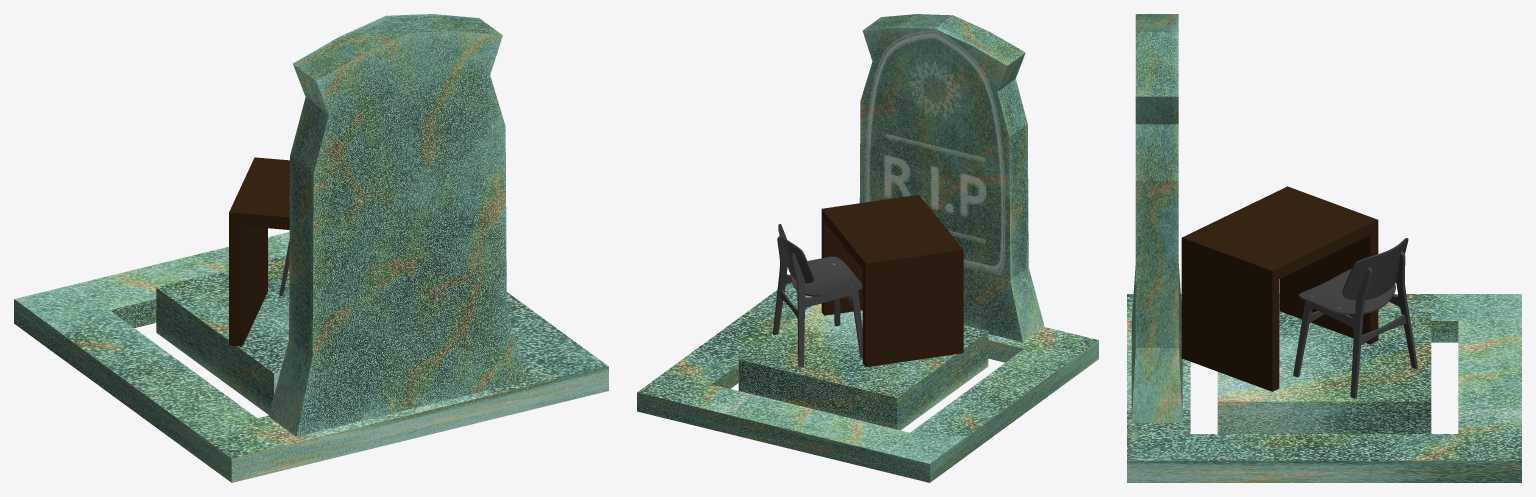
File: meme2.glb
The picture shows the model from 3 angles, left to right: view 1: azimuth 30°, elevation 25°; view 2: azimuth 150°, elevation 25°; view 3: azimuth 270°, elevation 25°; orthographic projection. The views are drawn at different scales.
Visible parts, largest first — view 1: Cube.050, Cube.001, Cube.008, Cube.012; view 2: Cube.050, Cube.001, Cube.012, Cube.008, Cube.013; view 3: Cube.001, Cube.012, Cube.050, Cube.008, Cube.013.
Part boxes in pixels (left/top/right/bottom): Cube.050: left=268, top=14, right=527, bottom=436; Cube.001: left=14, top=232, right=608, bottom=482; Cube.008: left=156, top=256, right=289, bottom=414; Cube.012: left=229, top=157, right=289, bottom=346; Cube.050: left=859, top=14, right=1044, bottom=342; Cube.001: left=637, top=282, right=1098, bottom=482; Cube.012: left=821, top=194, right=963, bottom=367; Cube.008: left=738, top=303, right=988, bottom=430; Cube.013: left=772, top=224, right=862, bottom=366; Cube.001: left=1127, top=294, right=1521, bottom=482; Cube.012: left=1181, top=186, right=1378, bottom=391; Cube.050: left=1131, top=14, right=1182, bottom=422; Cube.008: left=1217, top=311, right=1431, bottom=433; Cube.013: left=1293, top=238, right=1417, bottom=398.
Size of the model in its own units: 0.7549 by 0.7688 by 0.7549.
Materials: 6 (2 with a texture image).
